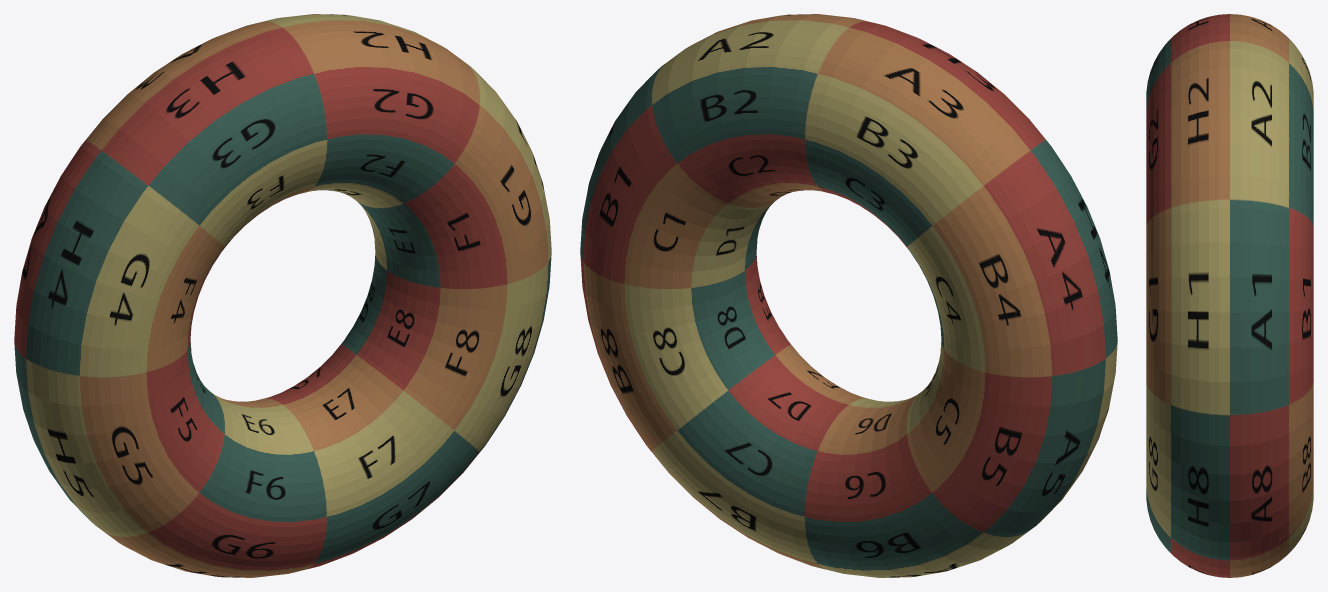
The model's file is texture_torus_R11_r20.glb.
The picture shows the model from 3 angles, left to right: view 1: azimuth 30°, elevation 25°; view 2: azimuth 150°, elevation 25°; view 3: azimuth 270°, elevation 25°; orthographic projection. The views are drawn at different scales.
Visible parts, largest first — view 1: world; view 2: world; view 3: world.
Part boxes in pixels (x1=…): world: x1=14, y1=14, x2=551, y2=577; world: x1=580, y1=14, x2=1117, y2=577; world: x1=1146, y1=14, x2=1313, y2=577.
Size of the model in its own units: 24.67 by 24.62 by 7.32.
Materials: 1 (1 with a texture image).
